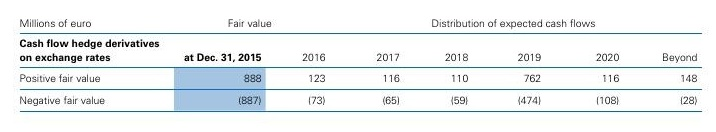table: (0, 0, 716, 132)
